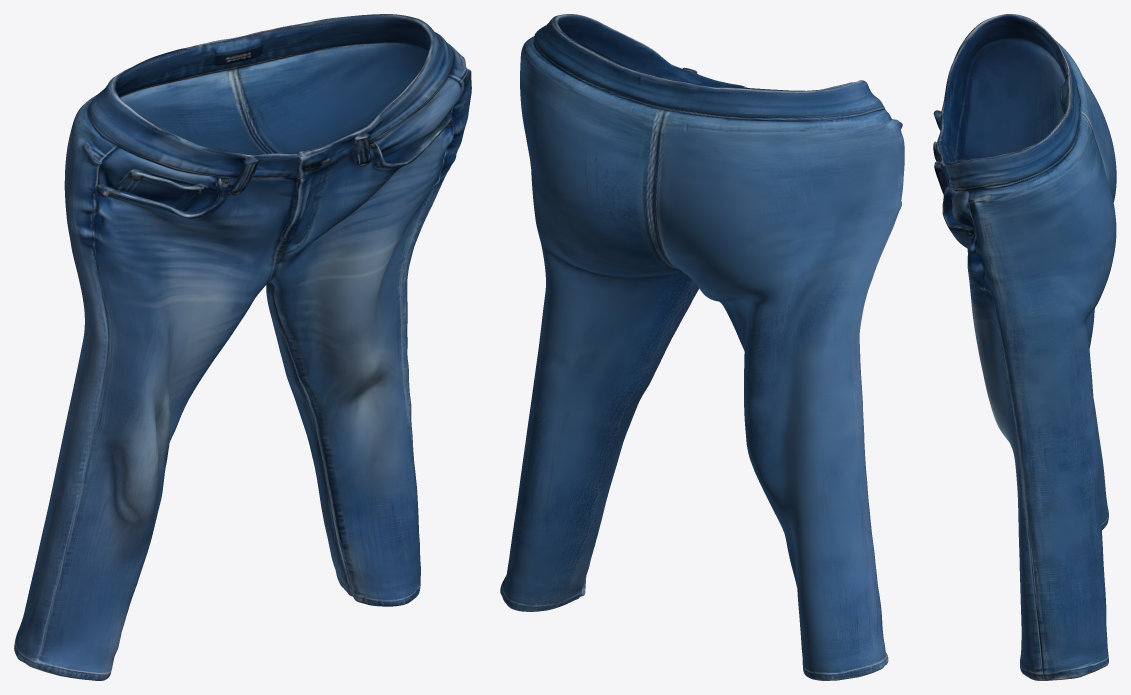
The model's file is autumn_boy_bottom_01.glb.
The picture shows the model from 3 angles, left to right: view 1: azimuth 30°, elevation 25°; view 2: azimuth 150°, elevation 25°; view 3: azimuth 270°, elevation 25°; orthographic projection. The views are drawn at different scales.
Parts seen in each view (by area): view 1: tripo_node_d1dcd986-9b72-4fa8-a779-a2a69a8ad4f8; view 2: tripo_node_d1dcd986-9b72-4fa8-a779-a2a69a8ad4f8; view 3: tripo_node_d1dcd986-9b72-4fa8-a779-a2a69a8ad4f8.
Boxes of the visible parts, box(x1,y1,x2,y2) form: tripo_node_d1dcd986-9b72-4fa8-a779-a2a69a8ad4f8: box(14, 14, 471, 680); tripo_node_d1dcd986-9b72-4fa8-a779-a2a69a8ad4f8: box(500, 14, 904, 680); tripo_node_d1dcd986-9b72-4fa8-a779-a2a69a8ad4f8: box(933, 14, 1116, 680).
Size of the model in its own units: 0.7199 by 1 by 0.3128.
1 material, 1 textured.
